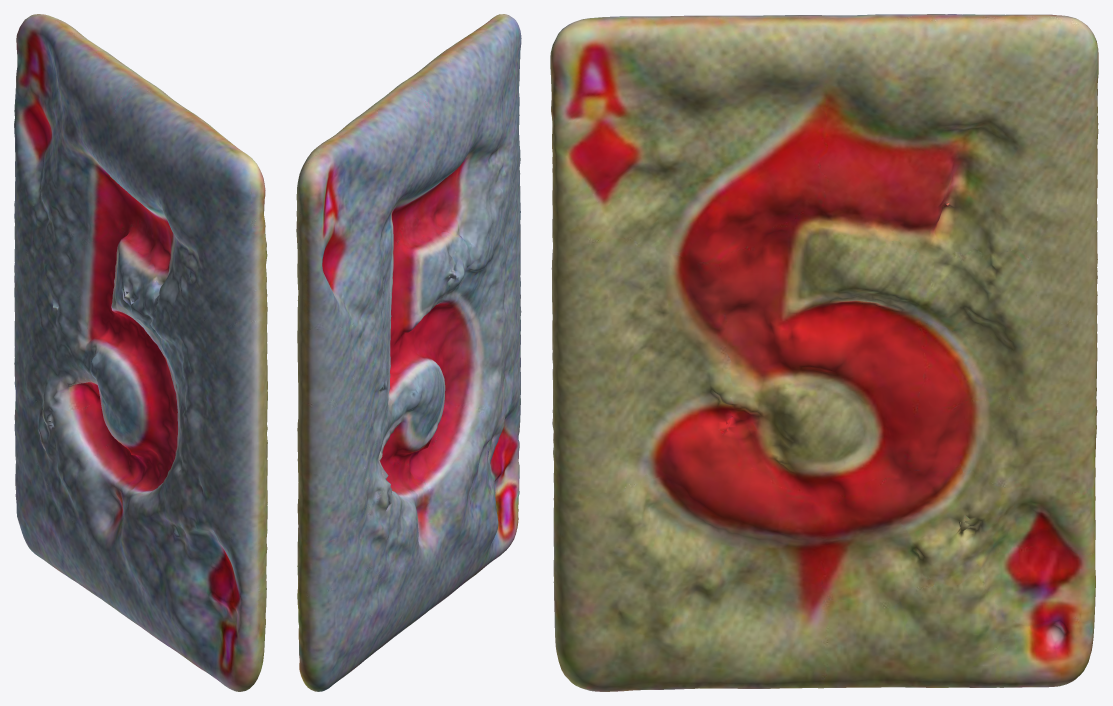
The model's file is card_14.glb.
3 renders of one model, left to right at view 1: azimuth 30°, elevation 25°; view 2: azimuth 150°, elevation 25°; view 3: azimuth 270°, elevation 25°, orthographic. The views are drawn at different scales.
Parts seen in each view (by area): view 1: Mesh1; view 2: Mesh1; view 3: Mesh1.
Boxes of the visible parts, x1=… form: Mesh1: x1=14, y1=14, x2=267, y2=691; Mesh1: x1=296, y1=14, x2=521, y2=691; Mesh1: x1=550, y1=14, x2=1098, y2=691.
Size of the model in its own units: 0.16 by 1.2 by 0.8885.
1 material, 1 textured.
